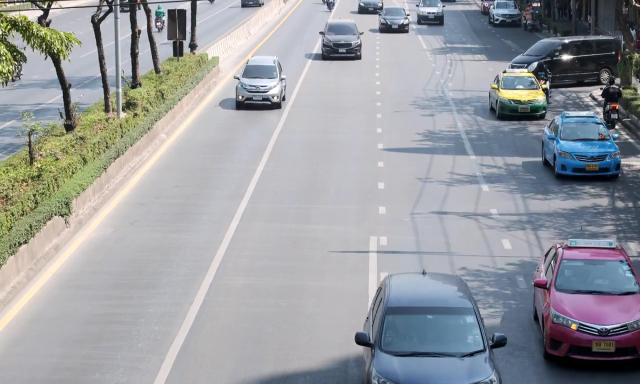carro: (351, 267, 507, 384), (531, 236, 640, 364), (504, 34, 620, 87), (541, 113, 620, 180), (233, 54, 288, 113), (486, 70, 546, 121), (318, 17, 365, 61), (378, 6, 412, 34), (486, 0, 521, 27), (416, 0, 446, 26), (358, 0, 384, 13), (480, 0, 494, 15)
moto: (601, 99, 624, 127), (526, 18, 541, 32), (154, 15, 165, 34), (322, 0, 337, 13), (519, 16, 530, 29)
